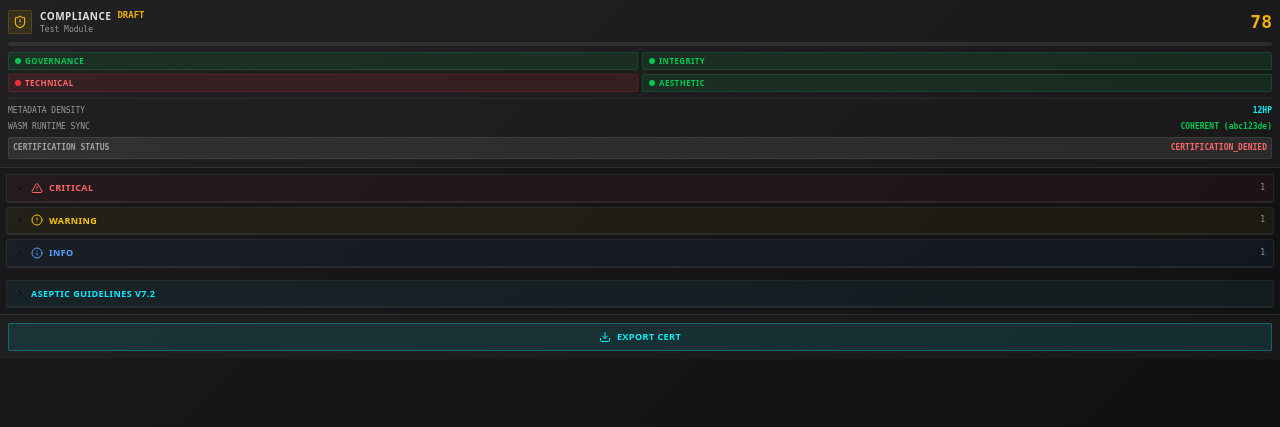
Test: CompliancePanel — issues list › should toggle issues accordion on header click
expect the text "Non-standard port color for Gate output" is not shown: met
Click the button "Warning 1". click: point(73, 220)
box: [7, 208, 1273, 234]
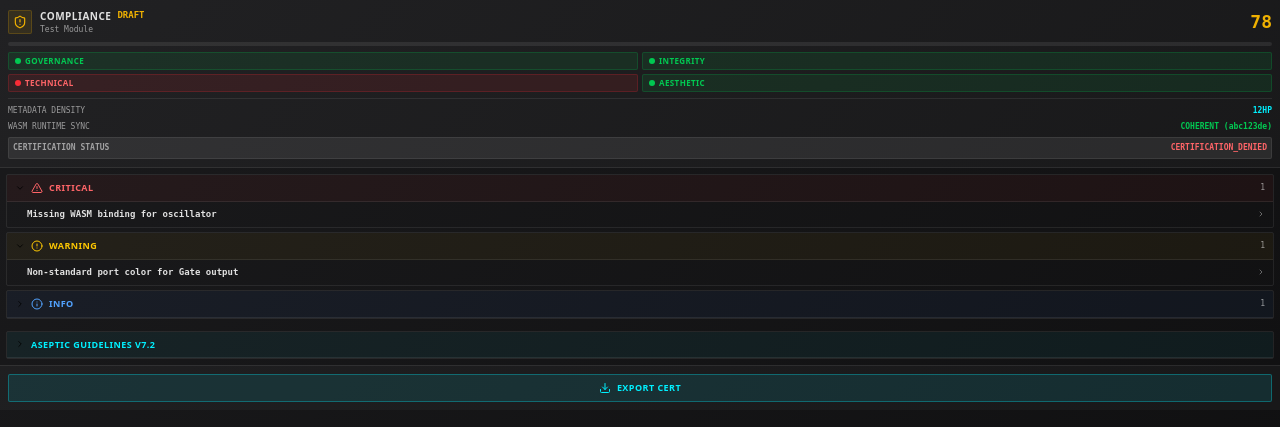
expect the text "Non-standard port color for Gate output" is shown: met, box [27, 266, 238, 276]
